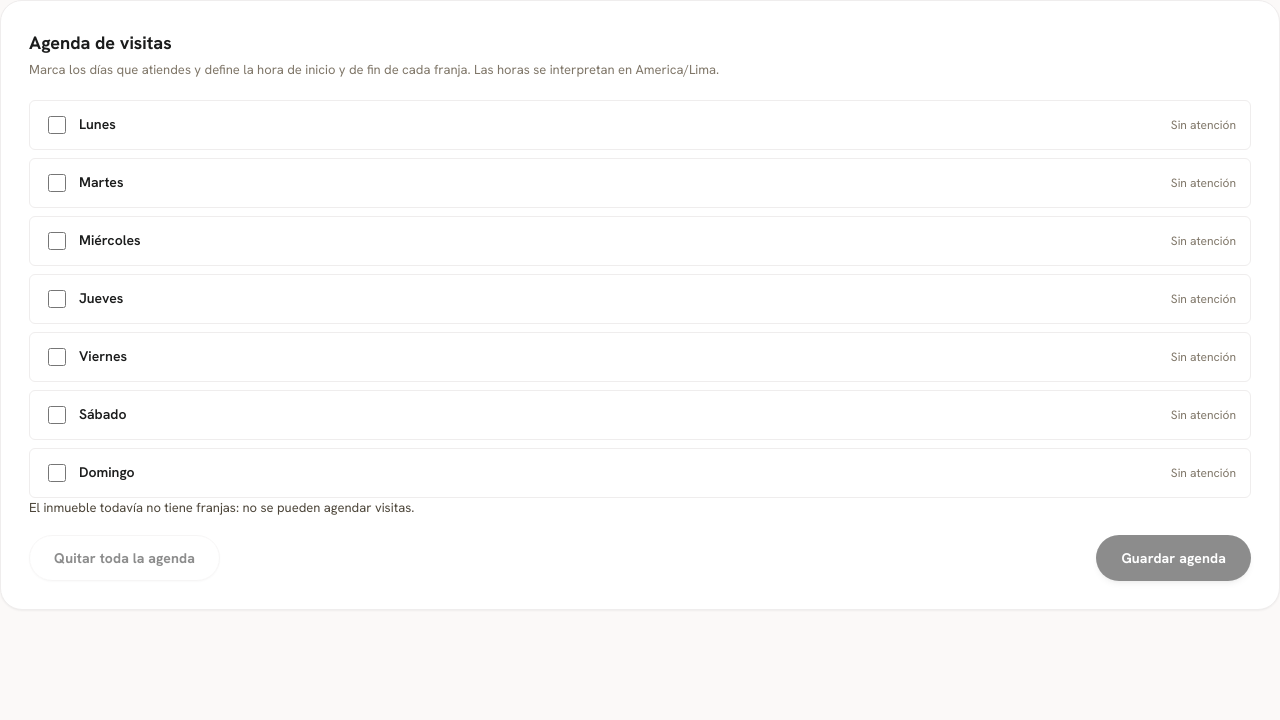
Test case: ScheduleManager › Envío de la agenda › muestra el motivo devuelto por el servidor y conserva el borrador
Click the switch labelled "Martes". click: {"x": 57, "y": 182}
box: x1=48 y1=174 x2=66 y2=192
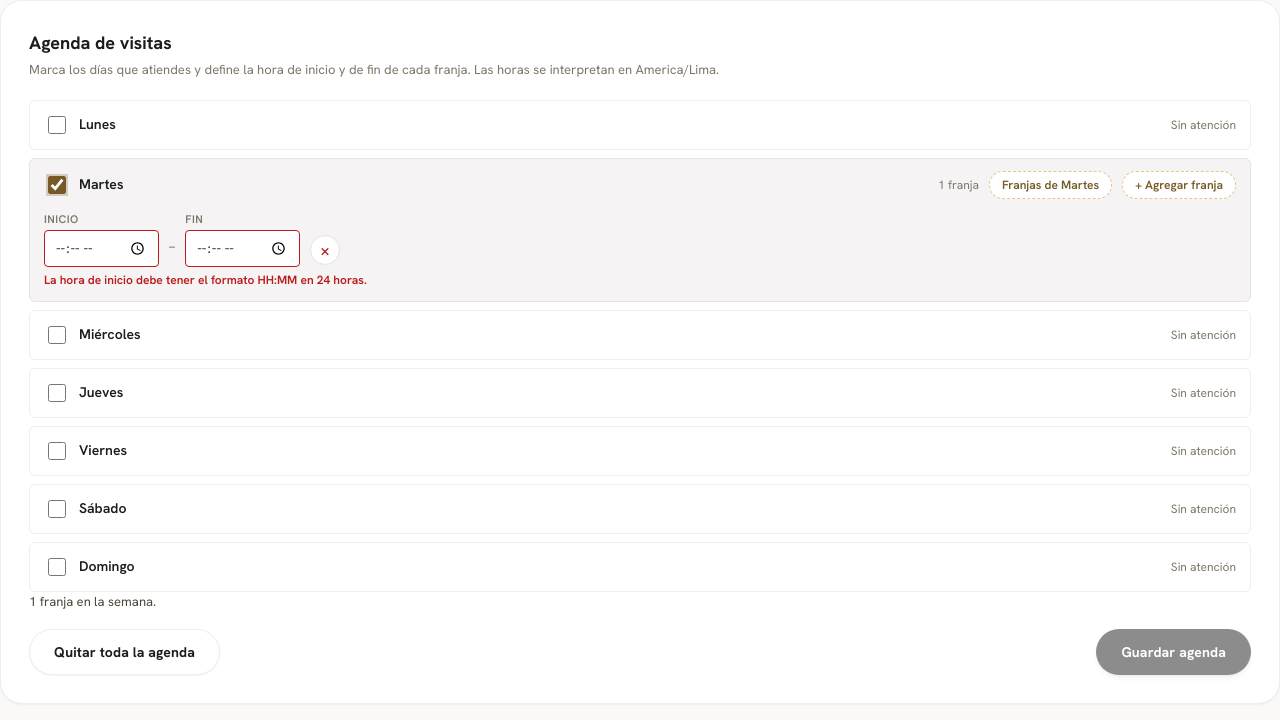
Type "09:00" into the time field named "Franja 1 de Martes: hora de inicio". click: {"x": 101, "y": 248}
box: x1=44 y1=230 x2=159 y2=267
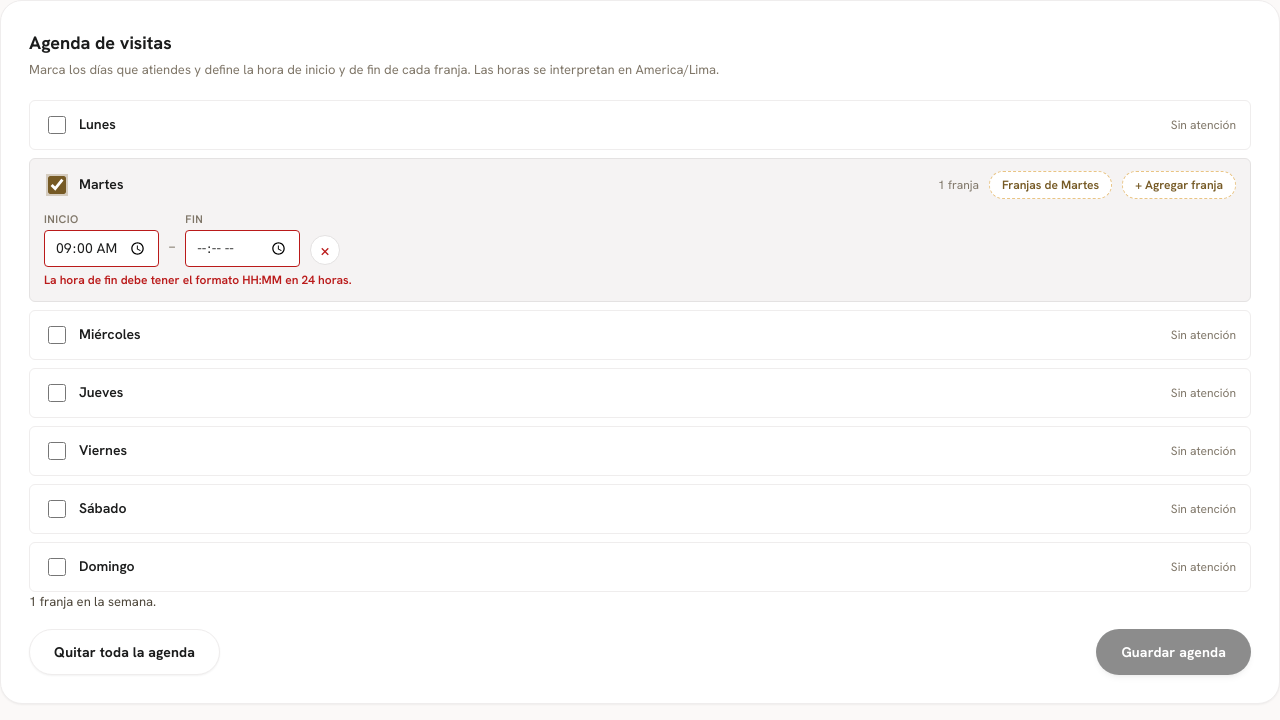
Type "10:00" into the time field named "Franja 1 de Martes: hora de fin". click: {"x": 243, "y": 248}
box: x1=185 y1=230 x2=300 y2=267
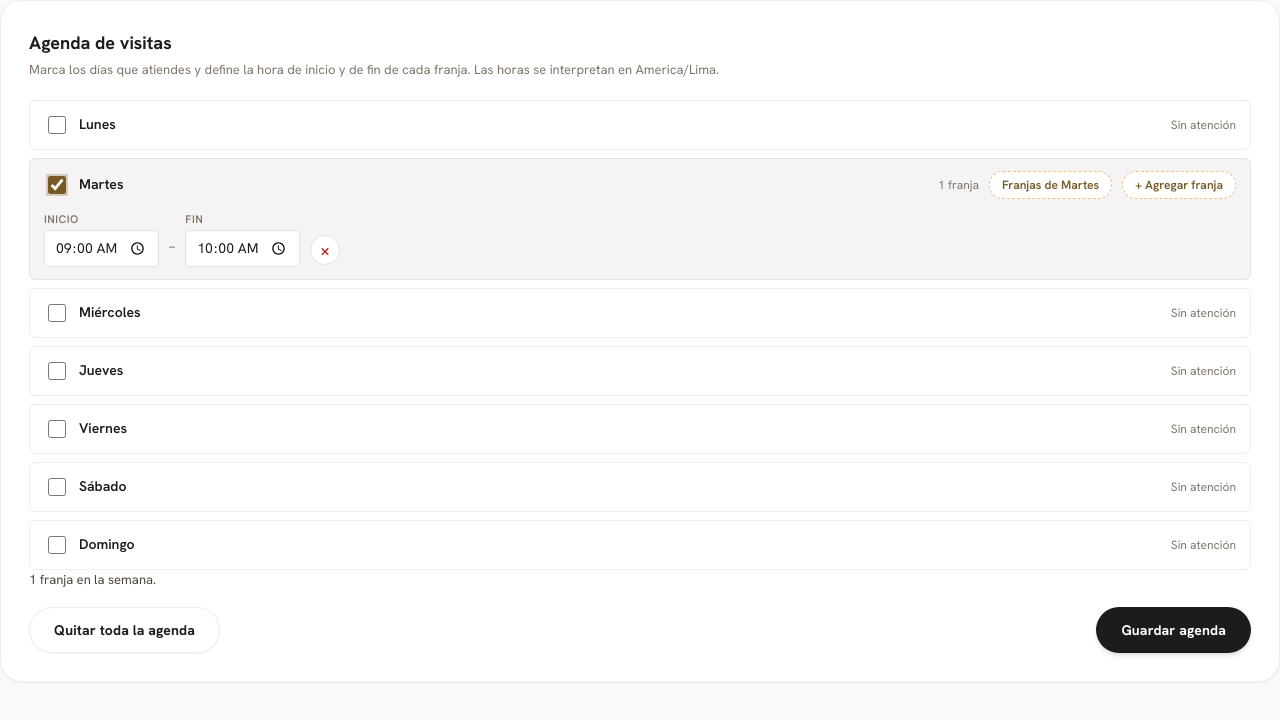
Click the button "Guardar agenda". click: {"x": 1174, "y": 630}
box: x1=1096 y1=607 x2=1251 y2=653
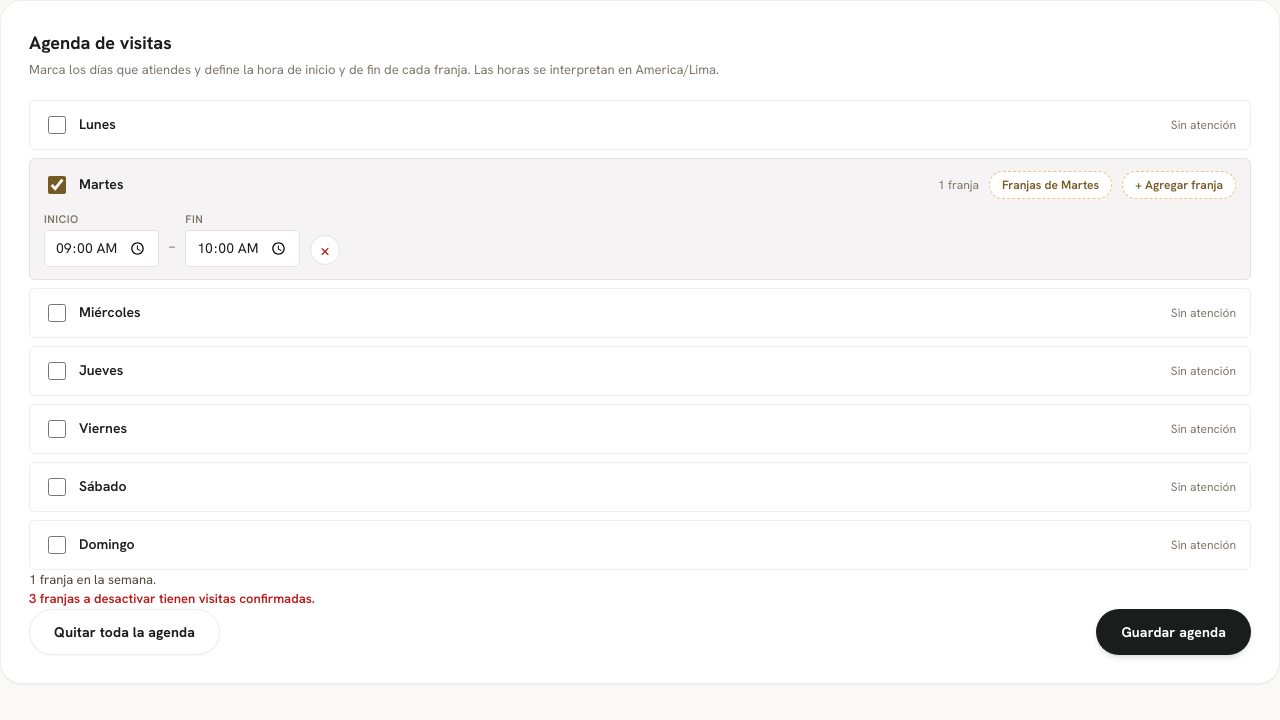
Result: the button "Guardar agenda" is enabled at x1=1096 y1=609 x2=1251 y2=655
Result: the text "3 franjas a desactivar tienen visitas confirmadas." is shown at x1=29 y1=590 x2=315 y2=607
